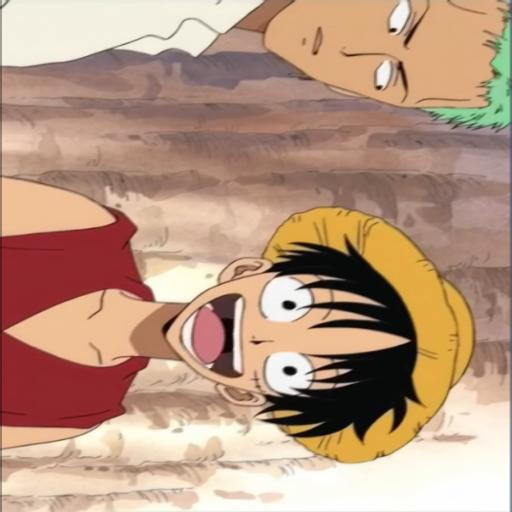Luffy: (0, 183, 487, 466)
Zoro: (0, 0, 512, 156)
